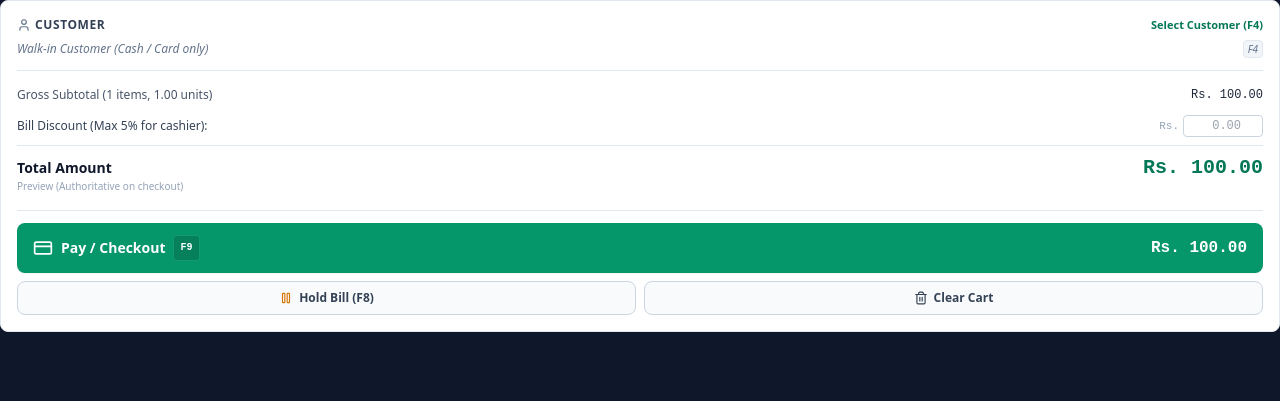
Test: POS Billing Discount Limit Enforcement UI › disables checkout and displays warning when cashier discount exceeds 5%
Expected: the button "Pay / Checkout F9 Rs. 100.00" is enabled, x1=17 y1=222 x2=1263 y2=272
Type "10" into the number field with placeholder "0.00" at (1223, 126), box x1=1183 y1=114 x2=1263 y2=136
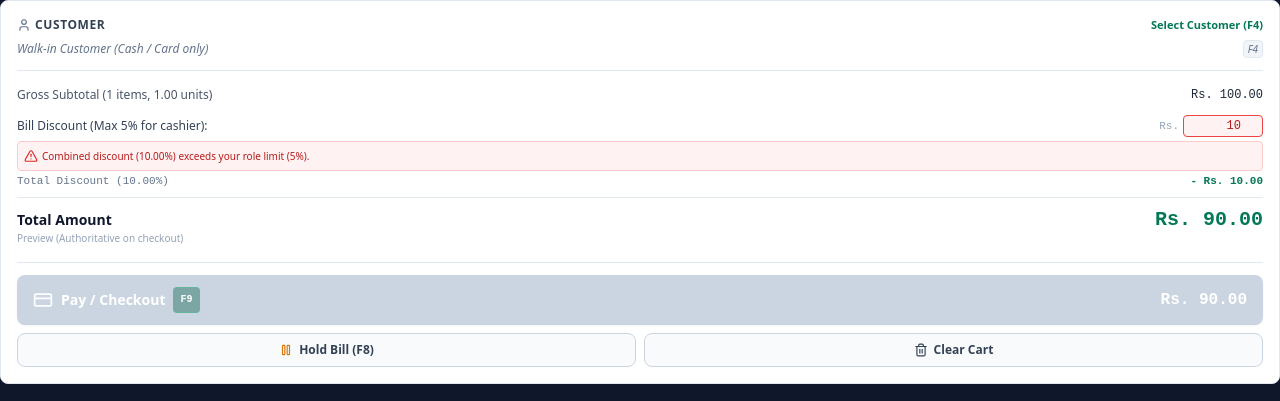
Now the text "Combined discount (10.00%) exceeds your role limit (5%)." is shown, box x1=42 y1=148 x2=310 y2=164
Now the button "Pay / Checkout F9 Rs. 90.00" is disabled, box x1=17 y1=274 x2=1263 y2=324
